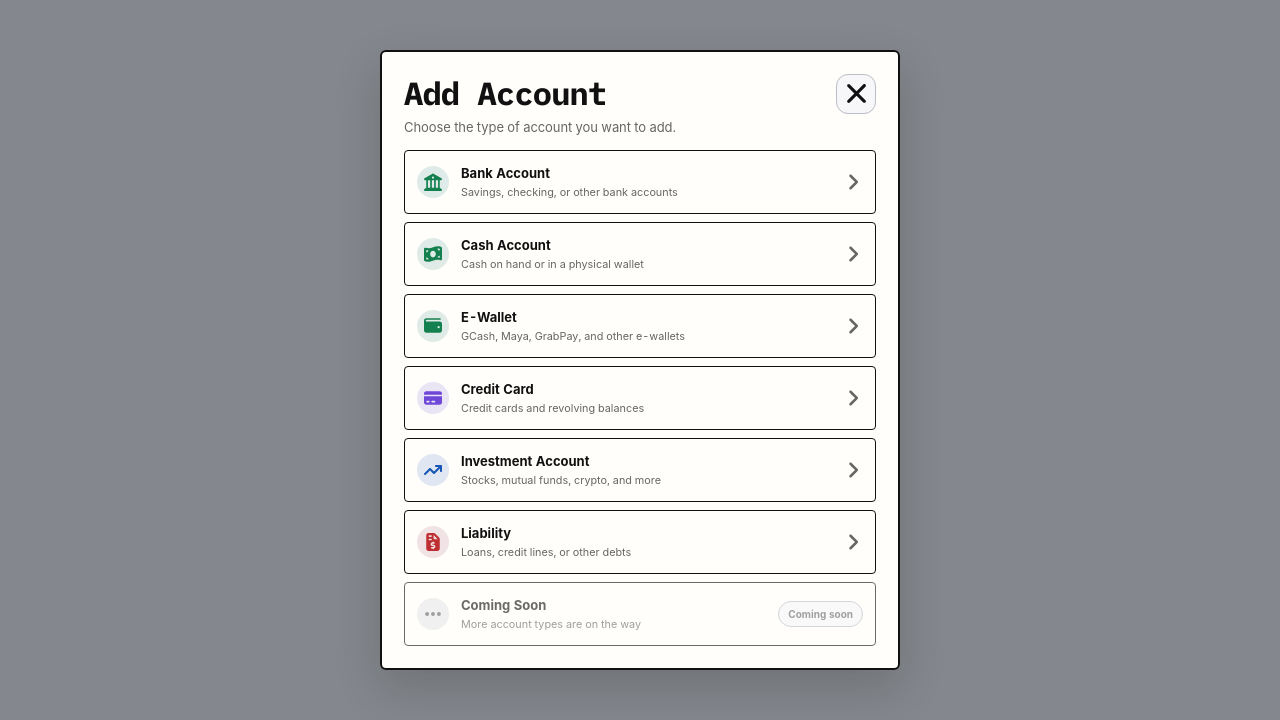
account create wizard › shows the Add Bank Account context and Account name field after choosing {}
Click the button "Bank Account Savings, checking, or other bank accounts".
click(433, 182)  # box [404,150,876,214]
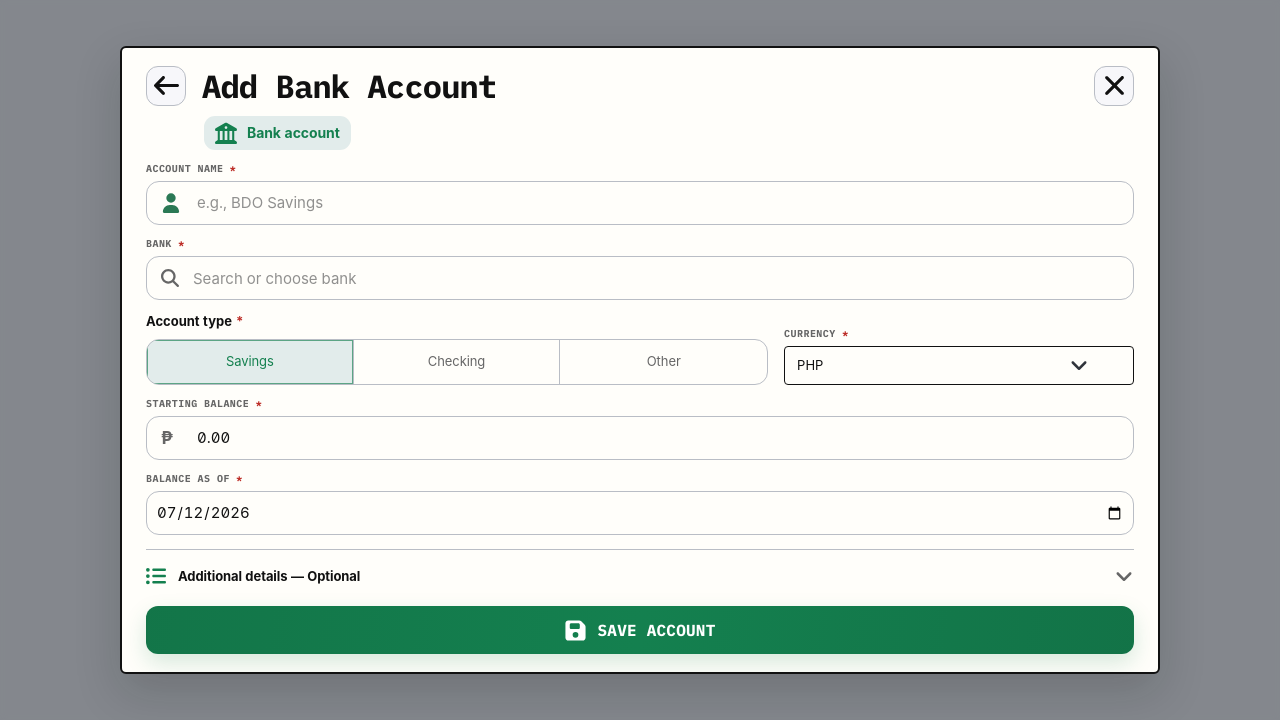
Check: the heading "Add Bank Account" is shown, box [202,65,496,107]
Check: the text "Bank account" is shown, box [247,123,340,143]
Check: the field labelled "Account name" is shown, box [146,181,1134,225]
